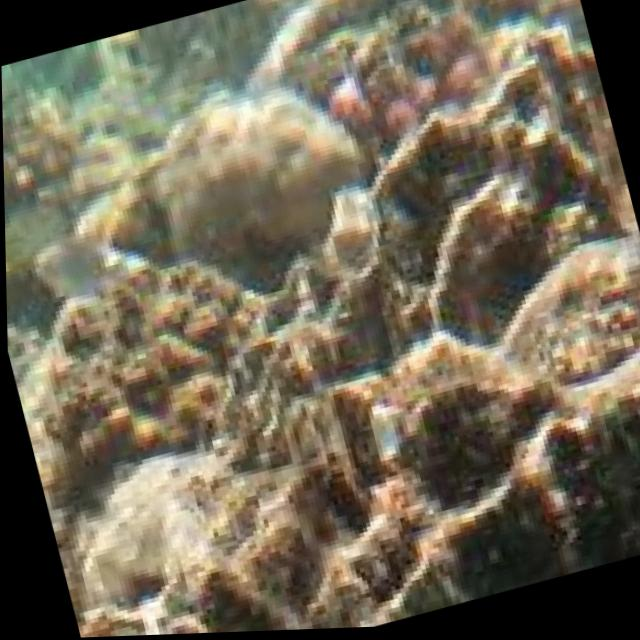Healthy Coral: (5, 239, 263, 516), (275, 0, 504, 203)
